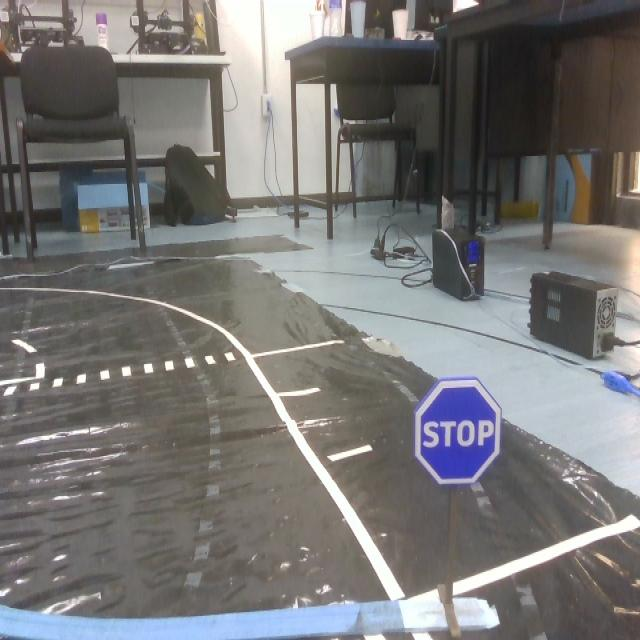no_entry: (422, 378, 500, 494)
